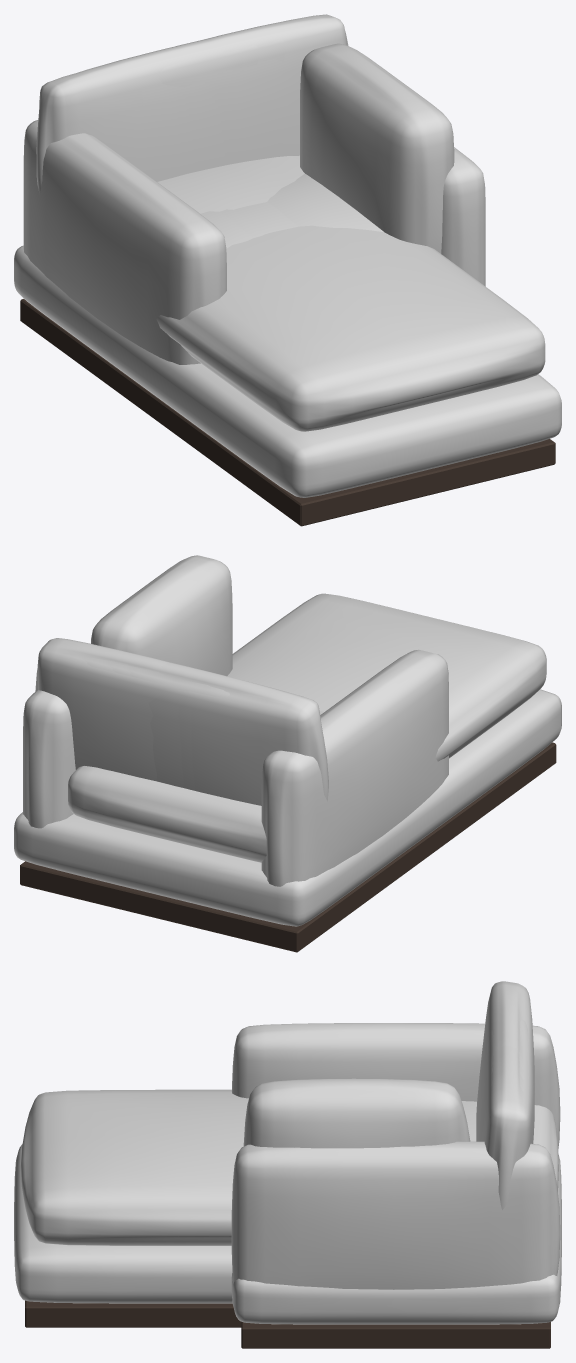
The model's file is modules-mid.glb.
3 views of the same model, one above another, from view 1: azimuth 30°, elevation 25°; view 2: azimuth 150°, elevation 25°; view 3: azimuth 270°, elevation 25° (orthographic). The views are drawn at different scales.
Visible parts, largest first — view 1: chaise, arm_left, corner, arm_right, ottoman, armless; view 2: arm_left, chaise, ottoman, arm_right, corner, armless; view 3: arm_right, chaise, arm_left, corner, ottoman, armless.
Boxes of the visible parts, bbox=[...] form: chaise: bbox=[20, 48, 561, 526]; arm_left: bbox=[23, 14, 383, 371]; corner: bbox=[36, 39, 454, 374]; arm_right: bbox=[50, 49, 485, 361]; ottoman: bbox=[14, 155, 304, 406]; armless: bbox=[16, 45, 298, 420]; arm_left: bbox=[14, 638, 448, 951]; chaise: bbox=[108, 593, 561, 951]; ottoman: bbox=[63, 766, 431, 952]; arm_right: bbox=[14, 668, 404, 921]; corner: bbox=[34, 555, 410, 952]; armless: bbox=[112, 664, 449, 932]; arm_right: bbox=[231, 981, 561, 1348]; chaise: bbox=[14, 1000, 560, 1327]; arm_left: bbox=[232, 1019, 561, 1348]; corner: bbox=[243, 981, 561, 1239]; ottoman: bbox=[461, 1101, 561, 1219]; armless: bbox=[476, 1000, 561, 1225].
Bounding box in the file's own units: 1.05 × 0.8131 × 1.65.
